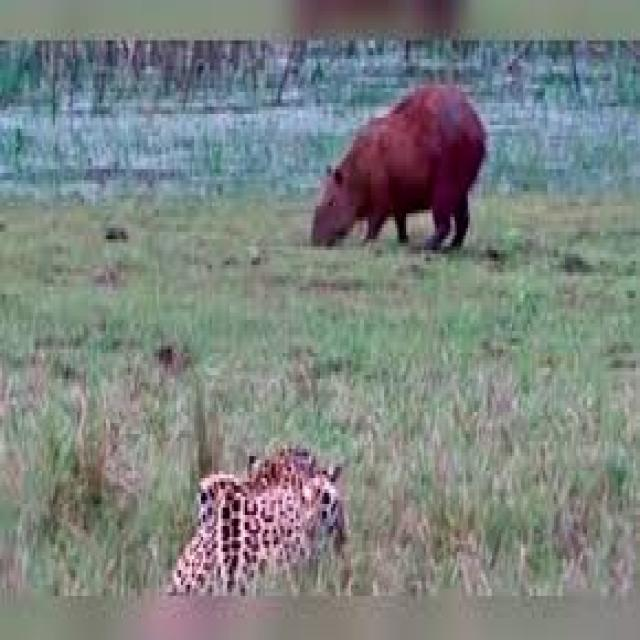capy: (305, 85, 487, 259)
